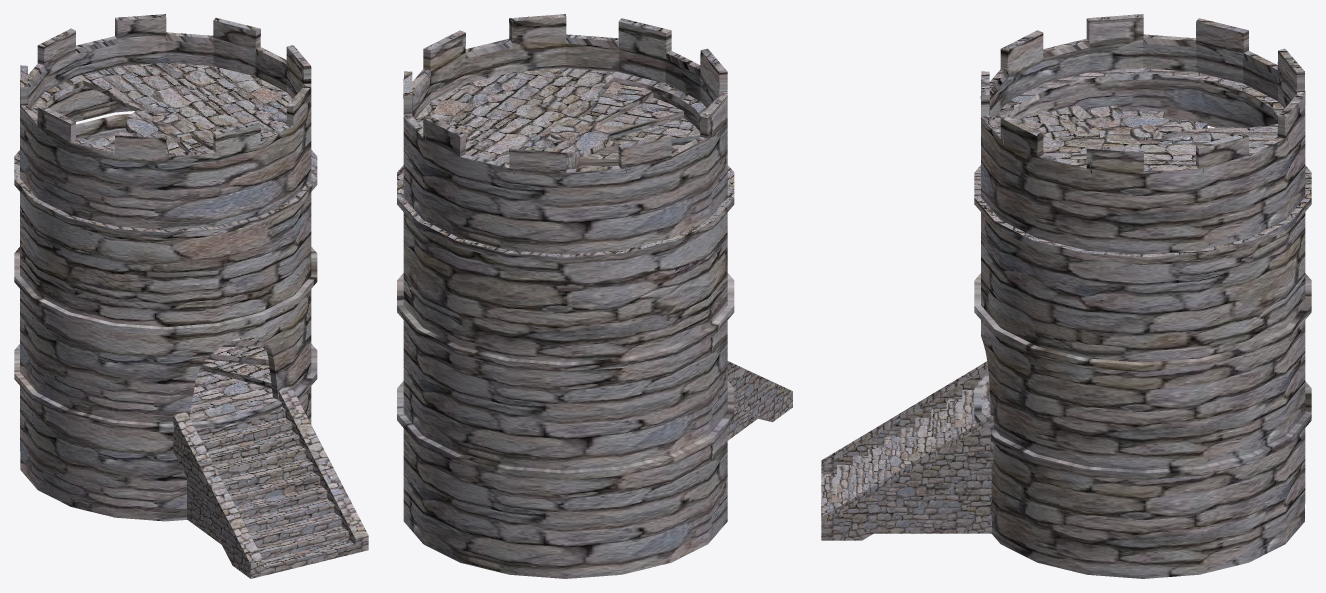
Rendered from guardTower.FBX.
3 renders of one model, left to right at view 1: azimuth 30°, elevation 25°; view 2: azimuth 150°, elevation 25°; view 3: azimuth 270°, elevation 25°, orthographic. The views are drawn at different scales.
Visible parts, largest first — view 1: Cylinder008, Cylinder006, StraightStair001, Cylinder010, Cylinder001, Cylinder007, SpiralStair001, Cylinder004, Cylinder002, Cylinder009; view 2: Cylinder008, Cylinder001, Cylinder006, Cylinder010, SpiralStair001, Cylinder002, Cylinder004, Cylinder007, StraightStair001; view 3: Cylinder008, Cylinder006, Cylinder010, Cylinder001, StraightStair001, Cylinder004, Cylinder007, Cylinder002, SpiralStair001.
Part boxes in pixels (x1,y1,x2,y2): Cylinder008: (20,14,311,229); Cylinder006: (20,113,311,326); StraightStair001: (173,386,368,578); Cylinder010: (20,289,311,423); Cylinder001: (20,386,311,521); Cylinder007: (14,110,317,238); SpiralStair001: (76,113,271,388); Cylinder004: (14,247,317,335); Cylinder002: (14,344,317,432); Cylinder009: (189,369,277,421); Cylinder008: (403,14,727,254); Cylinder001: (403,428,727,578); Cylinder006: (403,212,727,362); Cylinder010: (403,320,727,470); SpiralStair001: (550,81,700,169); Cylinder002: (397,381,734,480); Cylinder004: (397,273,734,372); Cylinder007: (397,165,734,264); StraightStair001: (727,361,792,440); Cylinder008: (980,14,1305,254); Cylinder006: (981,212,1305,362); Cylinder010: (981,320,1305,470); Cylinder001: (991,428,1305,578); StraightStair001: (821,361,993,540); Cylinder004: (974,273,1311,372); Cylinder007: (974,165,1311,264); Cylinder002: (974,376,1311,480); SpiralStair001: (1014,104,1207,142).
Bounding box in the file's own units: 46 × 63.13 × 65.87.
1 material, 1 textured.
